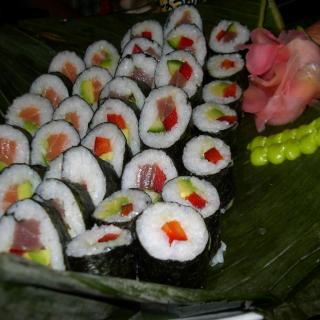Sushi: (0, 2, 254, 288), (134, 198, 212, 289)
